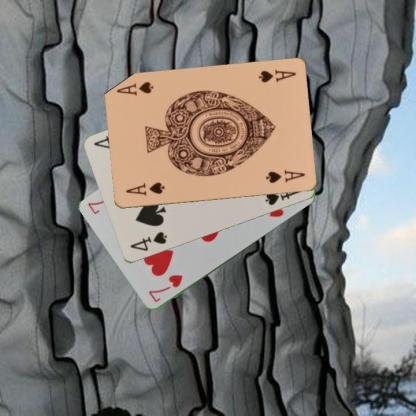4s: (127, 230, 169, 252)
7h: (146, 272, 184, 305)
As: (123, 180, 166, 198), (255, 67, 297, 84)
